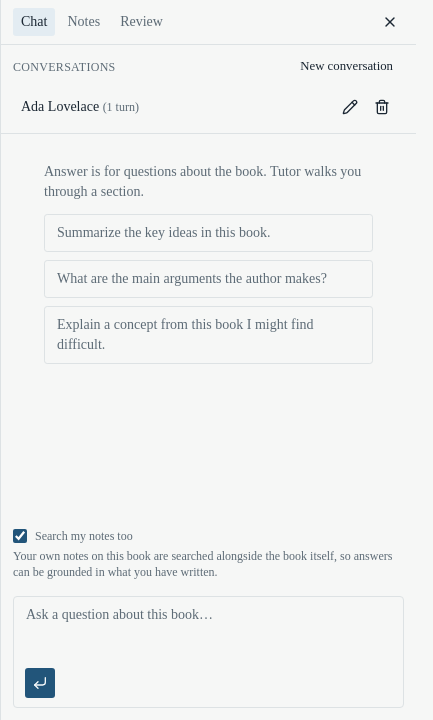
it: deleting a conversation from the dock › removes it from the list
Click the button named "Delete Ada Lovelace" at (382, 107), box [368,93,396,121]
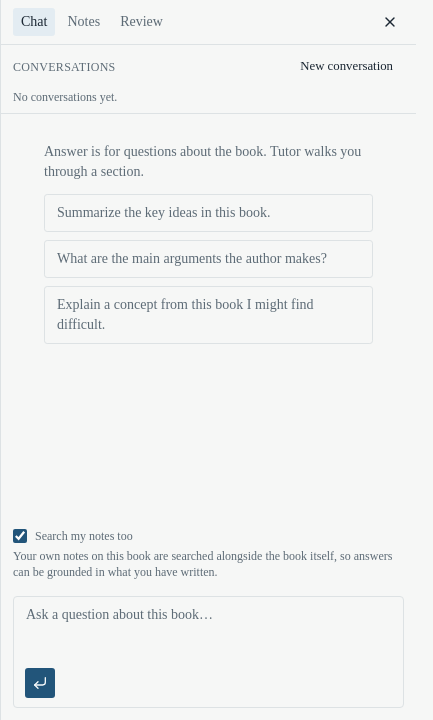
Check: the text "No conversations yet." is shown, box [13,90,117,104]
